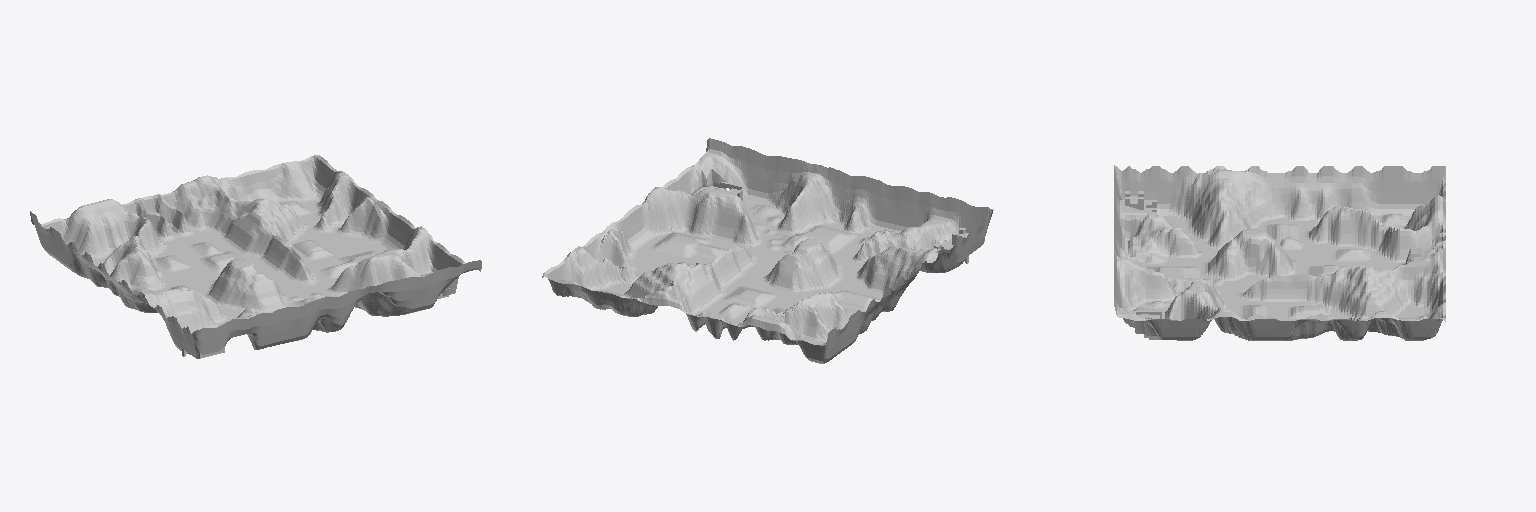
File: stouttp.obj
3 views of the same model, side by side, from view 1: azimuth 30°, elevation 25°; view 2: azimuth 150°, elevation 25°; view 3: azimuth 270°, elevation 25° (orthographic).
Parts seen in each view (by area): view 1: StoutTP; view 2: StoutTP; view 3: StoutTP.
Boxes of the visible parts, <box> form: StoutTP: <box>30,155,481,358</box>; StoutTP: <box>542,138,993,363</box>; StoutTP: <box>1114,165,1445,340</box>.
Bounding box in the file's own units: 124 × 18.88 × 124.